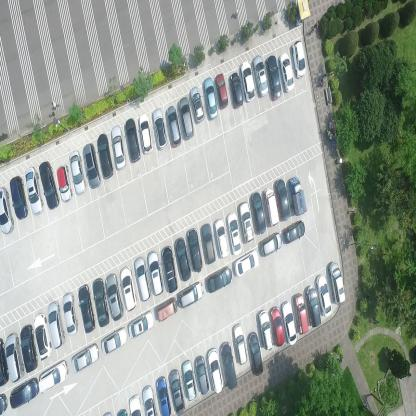car: (3, 332, 25, 383), (38, 161, 60, 210), (38, 358, 69, 392), (76, 283, 96, 334), (104, 272, 124, 321), (46, 300, 66, 349), (32, 311, 52, 360), (19, 324, 39, 372), (8, 175, 29, 220), (92, 277, 110, 329), (25, 166, 44, 215), (118, 264, 137, 312), (219, 340, 238, 388), (160, 243, 178, 293), (327, 260, 346, 306), (71, 342, 99, 373), (10, 377, 38, 408), (133, 255, 151, 303), (96, 131, 113, 181), (68, 150, 86, 197), (146, 249, 164, 296), (83, 143, 101, 189), (100, 326, 127, 356), (174, 235, 191, 282), (206, 348, 223, 394), (178, 280, 204, 310), (128, 309, 154, 339), (62, 292, 80, 335), (266, 53, 282, 101), (281, 298, 297, 346), (168, 367, 184, 415), (165, 104, 182, 149), (124, 119, 141, 164), (249, 189, 266, 234), (238, 201, 256, 243), (152, 106, 168, 152), (110, 125, 126, 171), (226, 210, 242, 256), (233, 249, 259, 277), (206, 265, 232, 293), (252, 53, 268, 98), (0, 185, 15, 233), (288, 176, 306, 216), (231, 320, 247, 365), (178, 96, 194, 140), (274, 177, 290, 221), (186, 228, 202, 272), (305, 284, 321, 328), (294, 290, 310, 334), (247, 331, 263, 375), (201, 221, 217, 264), (316, 272, 332, 315), (192, 355, 210, 393), (278, 53, 295, 93), (56, 163, 73, 203), (155, 375, 172, 415), (203, 75, 218, 120), (214, 217, 230, 259), (258, 307, 273, 351), (240, 61, 256, 102), (138, 113, 154, 154), (270, 306, 286, 347), (180, 359, 196, 400), (263, 186, 279, 226), (290, 39, 306, 78), (259, 230, 282, 257), (190, 85, 205, 124), (283, 218, 306, 243), (156, 296, 177, 322), (230, 71, 244, 109), (215, 71, 228, 110), (142, 386, 158, 416), (0, 338, 9, 386), (128, 394, 143, 415)
